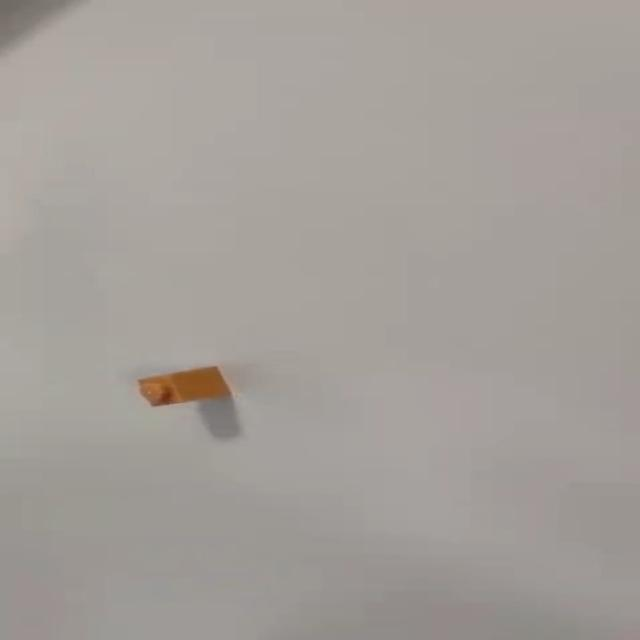C1x1x1: (134, 364, 234, 408)
